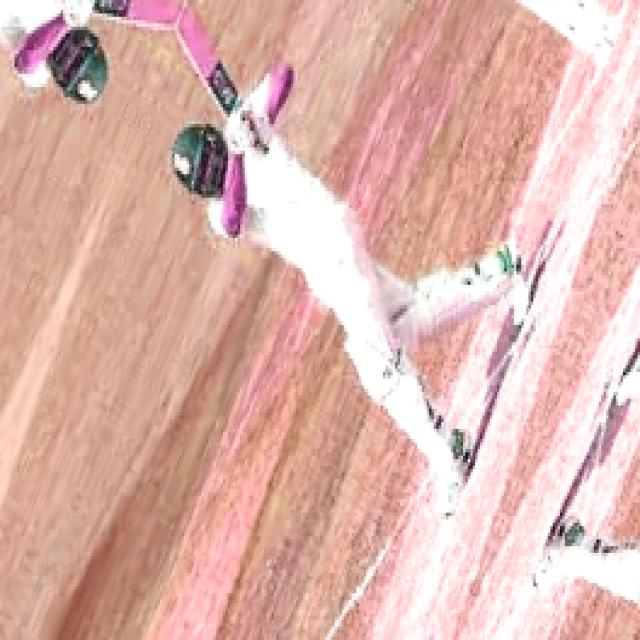toe: (175, 7, 204, 47)
